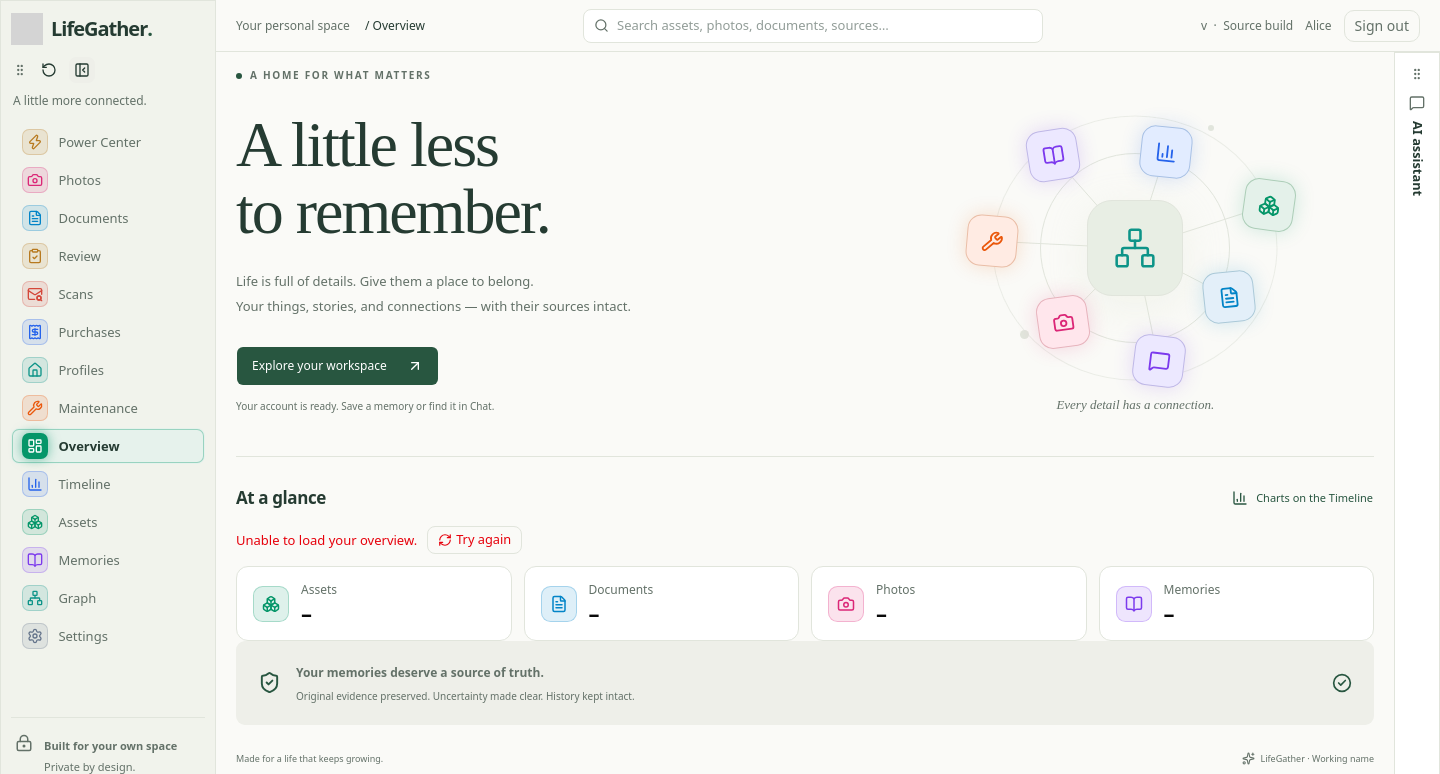
it: keeps the saved theme when a save fails
The width and height of the screenshot is (1440, 774).
Expected: the text "Alice" is shown, [1305,16,1332,34]
Click the button "Settings": (108, 636) [11,618,205,654]
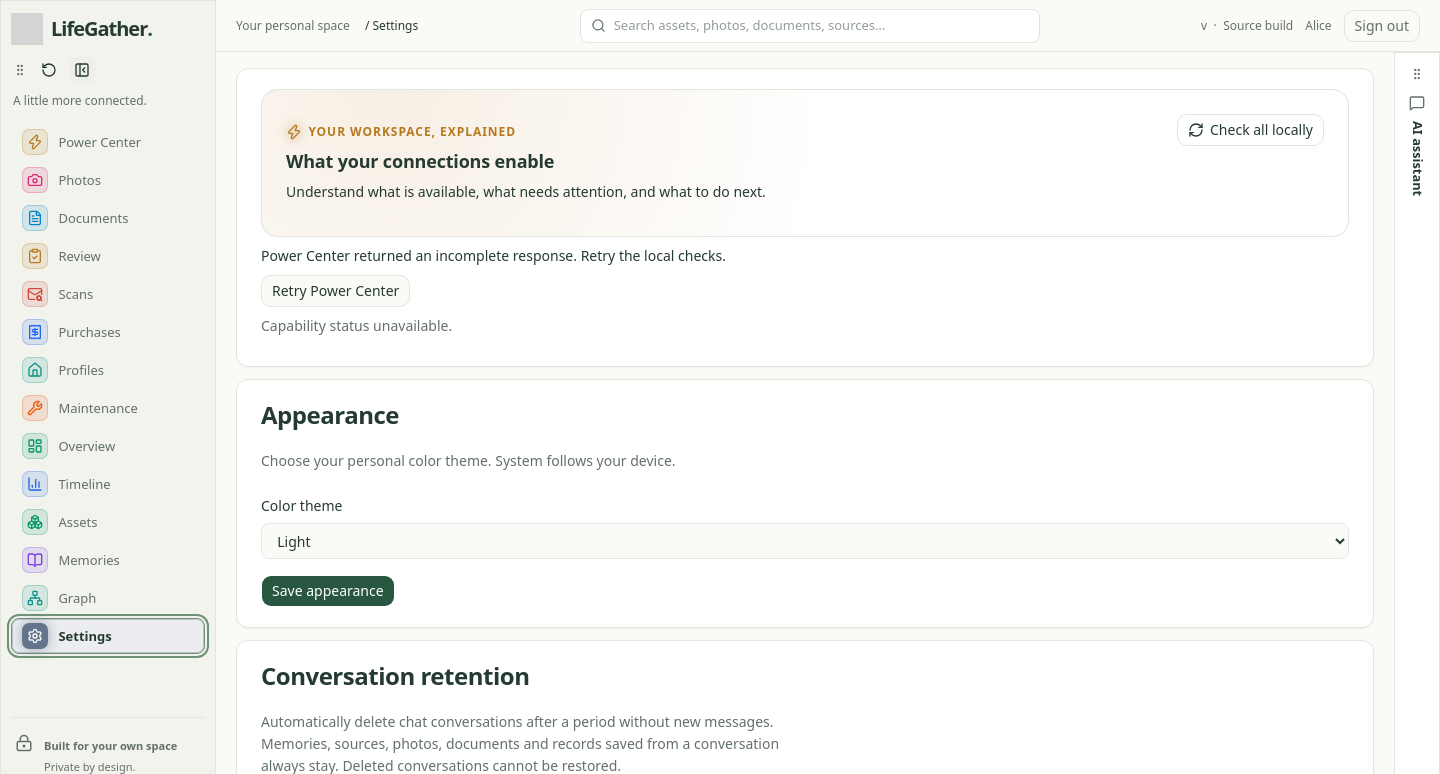
Select "Dark" in the dropdown labelled "Color theme": (805, 541) [261,523,1349,559]
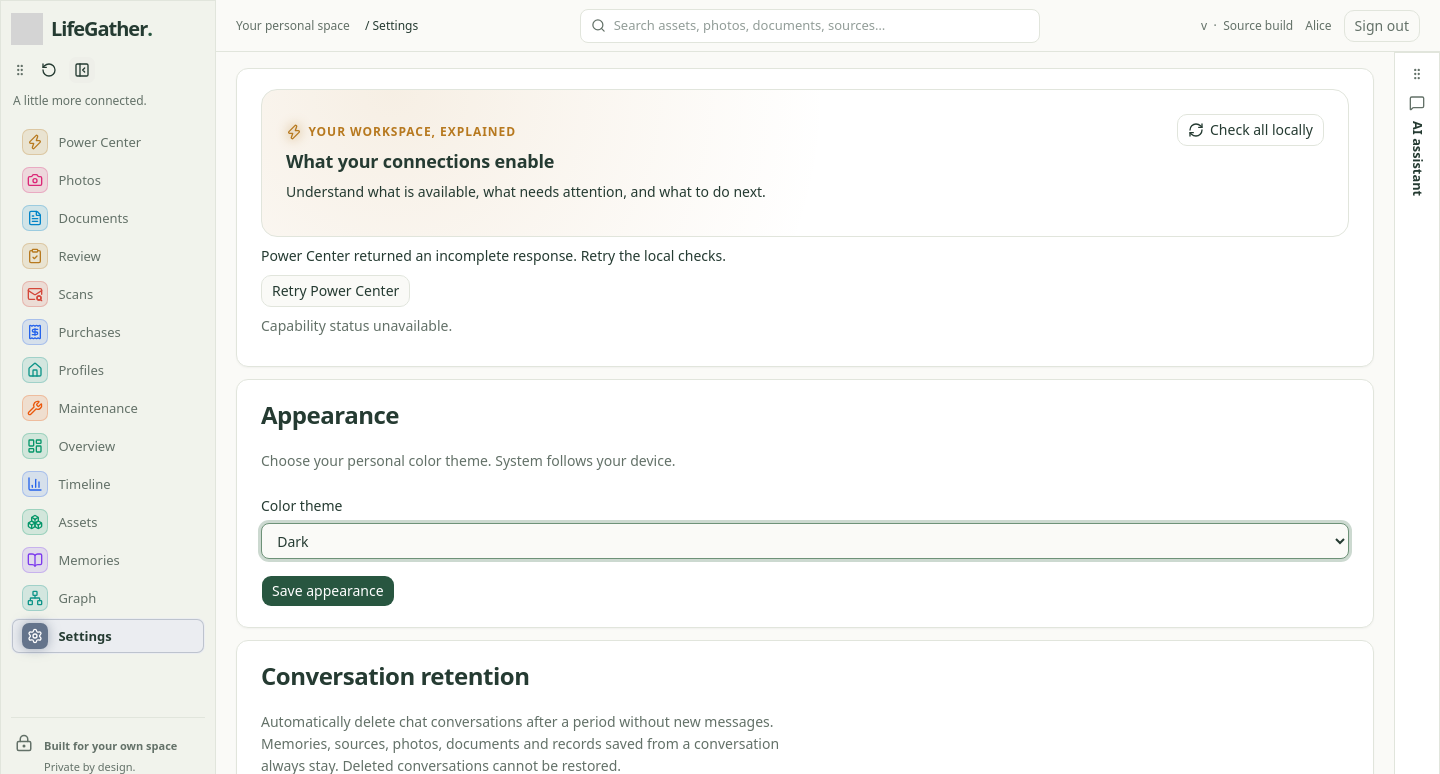
Click the button "Save appearance": (328, 591) [261,575,395,607]
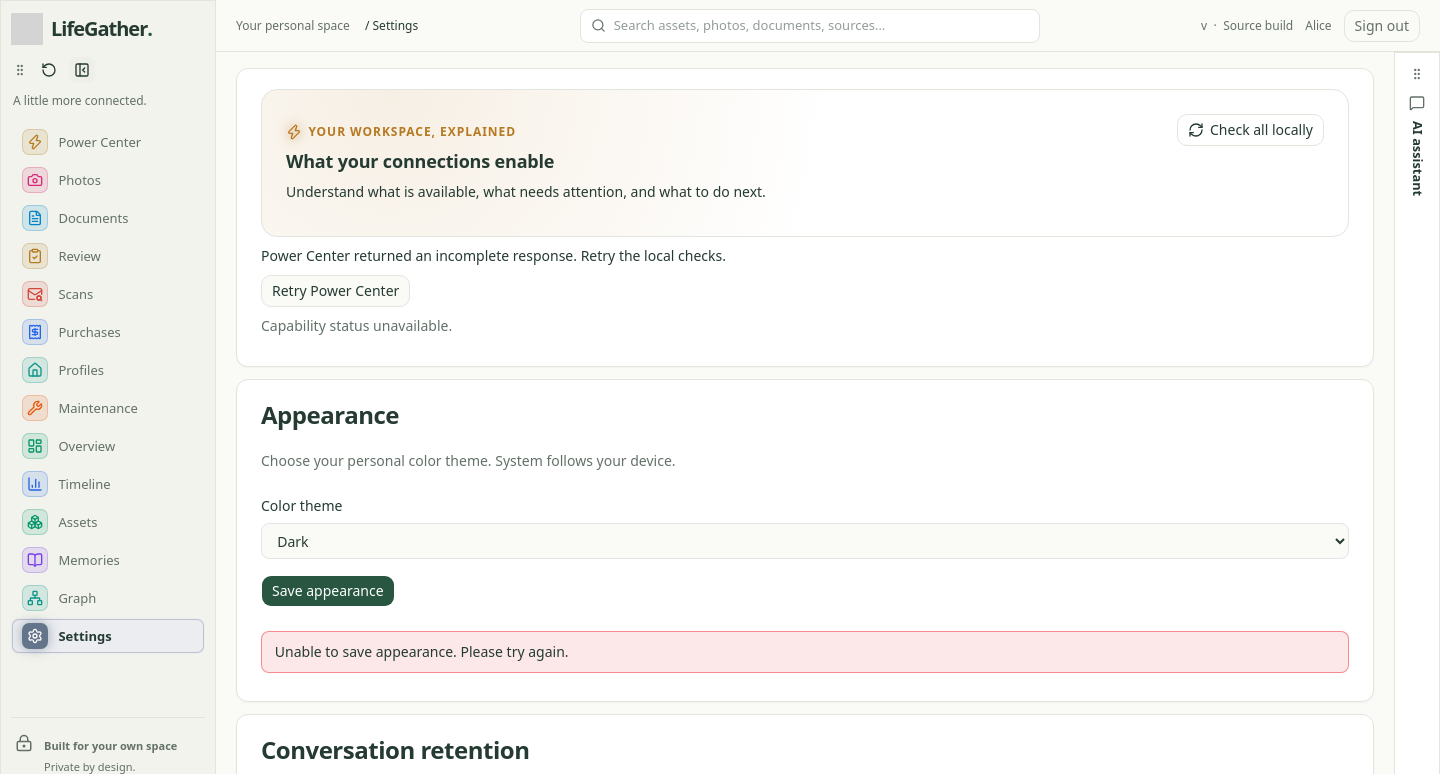
Now the message "Unable to save appearance. Please try again." is shown, box [261,631,1349,673]
